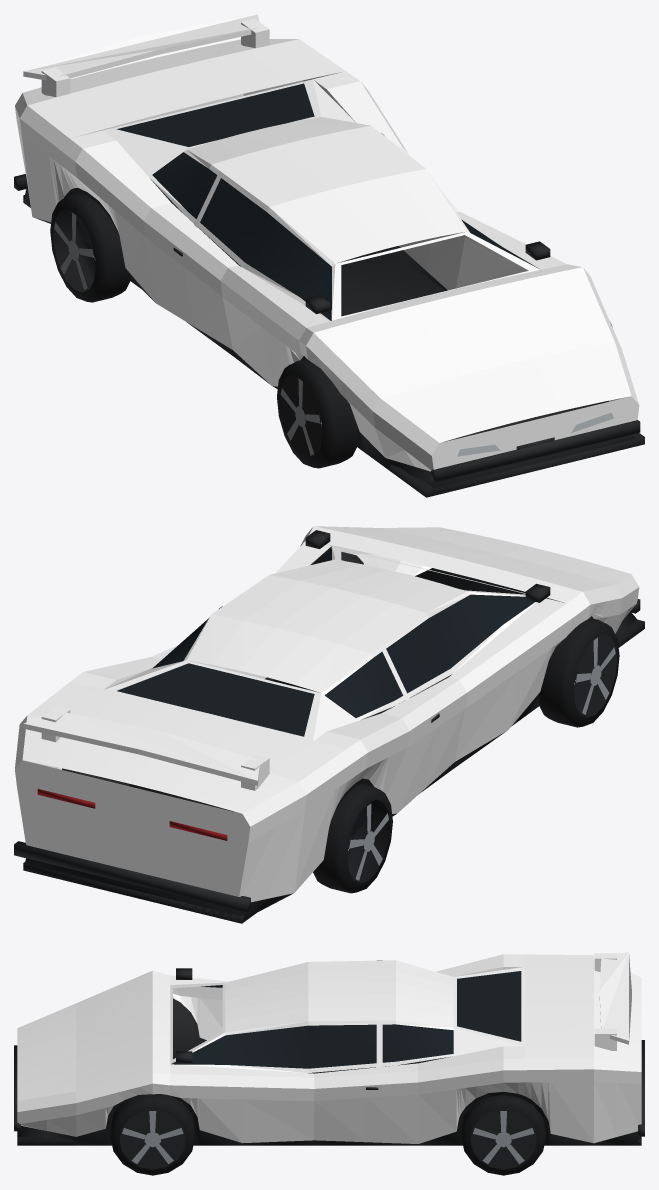
File: keldorf_baluarte.glb
3 renders of one model, top to bottom at view 1: azimuth 30°, elevation 25°; view 2: azimuth 150°, elevation 25°; view 3: azimuth 270°, elevation 25°, orthographic. The views are drawn at different scales.
Visible parts, largest first — view 1: Body_Paint, Body_Details, Mount_FrontLeft_Wheel_Details, Mount_RearLeft_Wheel_Details; view 2: Body_Paint, Body_Details, Mount_FrontLeft_Wheel_Details, Mount_RearLeft_Wheel_Details; view 3: Body_Paint, Body_Details, Mount_FrontRight_Wheel_Details, Mount_RearRight_Wheel_Details.
Part boxes in pixels (box(x1,y1,x2,y2)): Body_Paint: box(15, 14, 639, 471); Body_Details: box(14, 83, 644, 497); Mount_FrontLeft_Wheel_Details: box(277, 359, 359, 468); Mount_RearLeft_Wheel_Details: box(50, 193, 131, 302); Body_Paint: box(15, 526, 639, 902); Body_Details: box(14, 530, 644, 923); Mount_FrontLeft_Wheel_Details: box(537, 618, 619, 727); Mount_RearLeft_Wheel_Details: box(313, 783, 392, 893); Body_Paint: box(17, 952, 641, 1143); Body_Details: box(14, 968, 644, 1145); Mount_FrontRight_Wheel_Details: box(110, 1094, 195, 1175); Mount_RearRight_Wheel_Details: box(461, 1095, 546, 1175).
Size of the model in its own units: 2.11 by 1.18 by 5.03.
2 materials, 1 textured.
